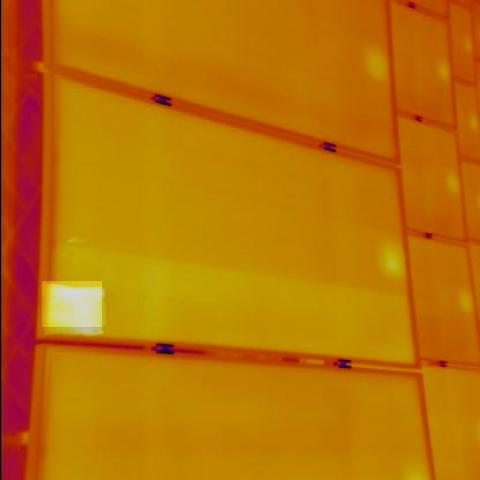fault: (42, 282, 102, 328)
